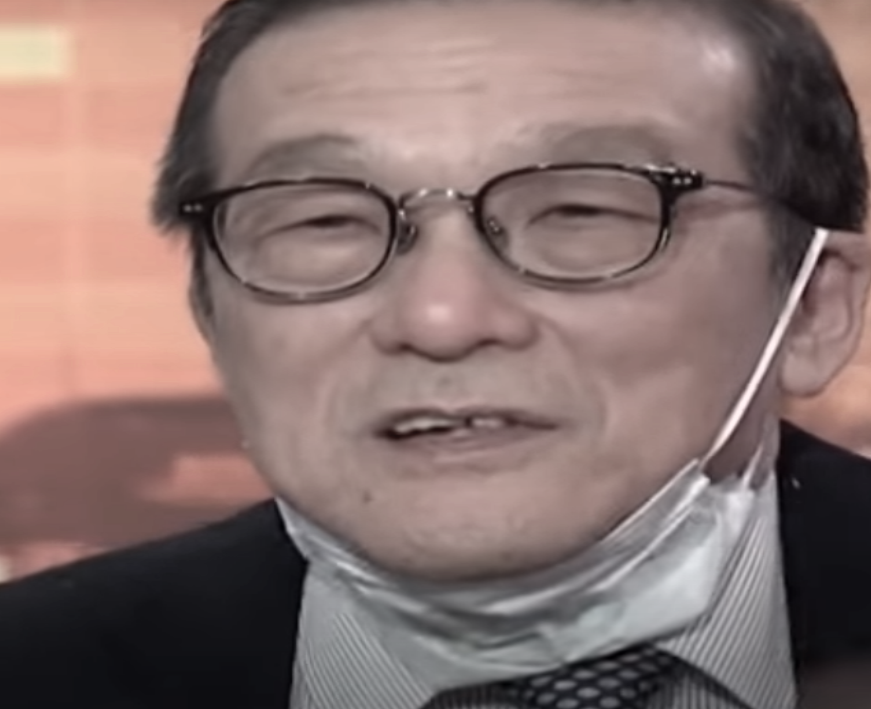mask_weared_incorrect: (156, 6, 871, 695)
